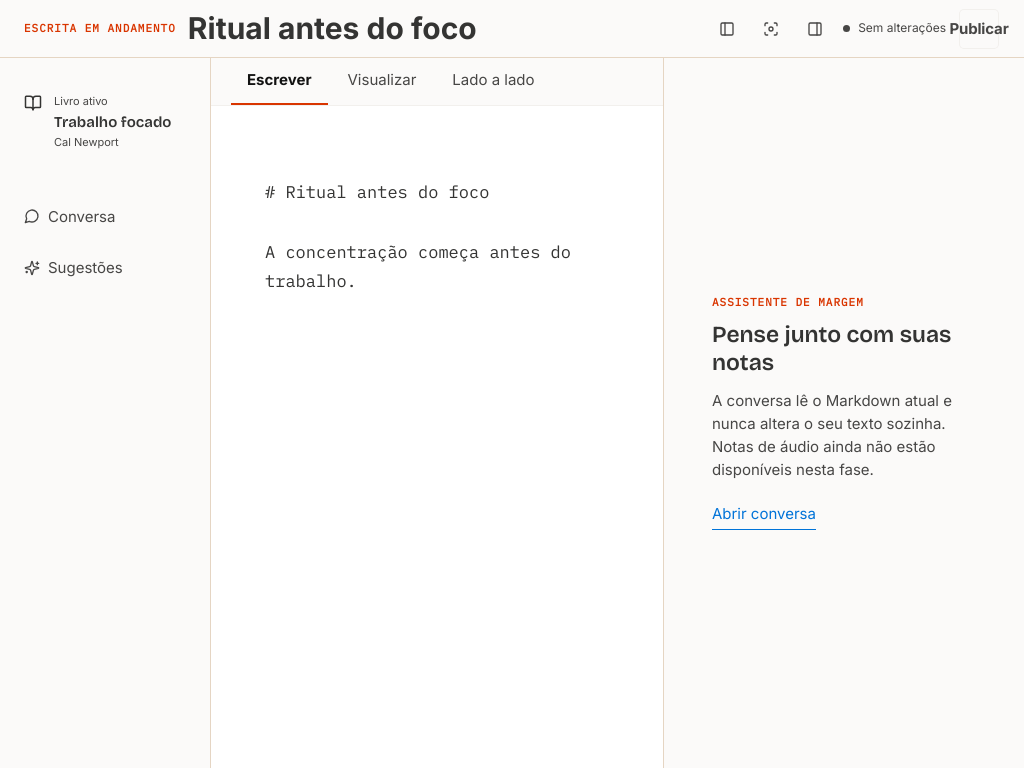
Test: salva após 800 ms e preserva o texto quando a requisição falha
Replace the text in the text box named "Conteúdo Markdown" with "# Uma nova ideia" at (437, 437), box [211,106,663,767]
Wait 800 ms
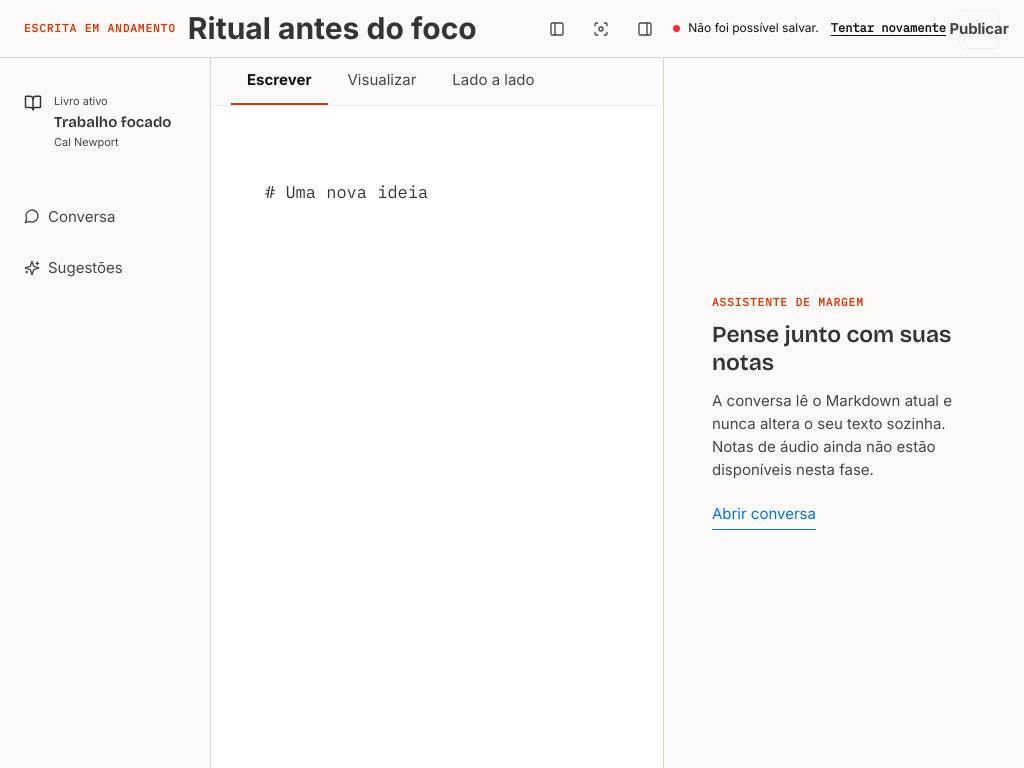
Expected: the text "Não foi possível salvar." is shown, [688,19,819,38]
